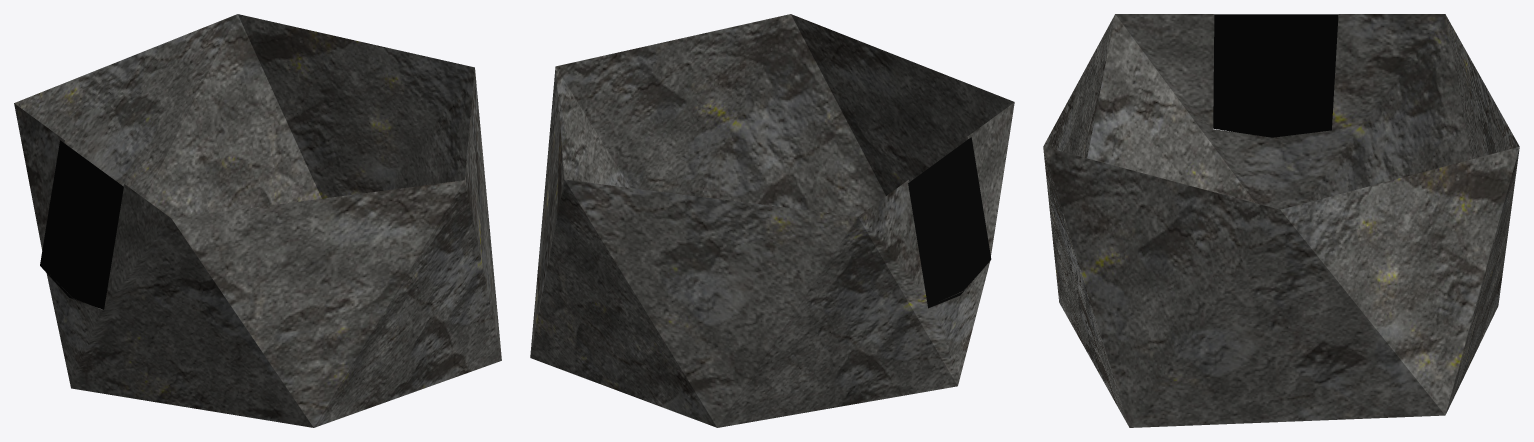
File: cavernaoficial.fbx
The picture shows the model from 3 angles, left to right: view 1: azimuth 30°, elevation 25°; view 2: azimuth 150°, elevation 25°; view 3: azimuth 270°, elevation 25°; orthographic projection. The views are drawn at different scales.
Parts seen in each view (by area): view 1: Icosphere, Plane; view 2: Icosphere, Plane; view 3: Icosphere, Plane.
Boxes of the visible parts, left/top/right/bottom form: Icosphere: left=14, top=14, right=501, bottom=427; Plane: left=40, top=140, right=123, bottom=309; Icosphere: left=530, top=14, right=1014, bottom=427; Plane: left=908, top=137, right=991, bottom=308; Icosphere: left=1043, top=14, right=1519, bottom=427; Plane: left=1213, top=14, right=1338, bottom=137.
Size of the model in its own units: 157 by 102 by 152.
